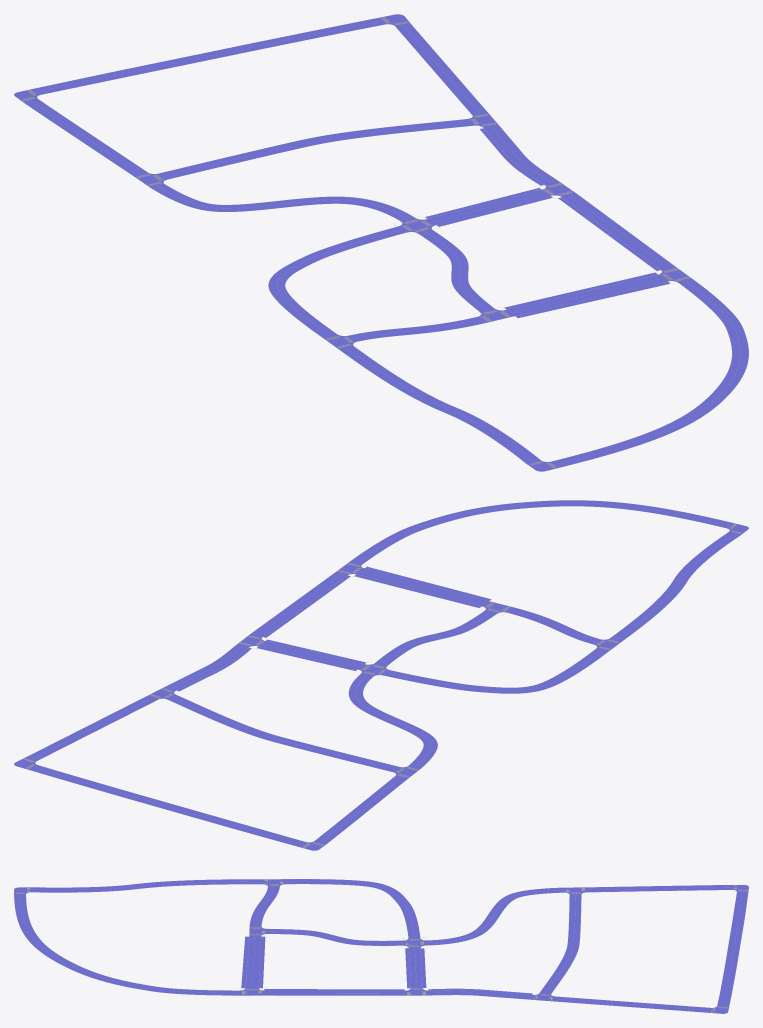
The model's file is Hmi_car_track.fbx.
3 views of the same model, one above another, from view 1: azimuth 30°, elevation 25°; view 2: azimuth 150°, elevation 25°; view 3: azimuth 270°, elevation 25° (orthographic). The views are drawn at different scales.
Parts seen in each view (by area): view 1: road_segment_13, road_segment_05, road_segment_06, road_segment_01, road_segment_04, road_segment_10, road_segment_03, road_segment_12, road_segment_07, road_segment_14, road_segment_09, road_segment_11 (+2 smaller); view 2: road_segment_13, road_segment_05, road_segment_06, road_segment_04, road_segment_01, road_segment_10, road_segment_03, road_segment_12, road_segment_07, road_segment_14, road_segment_09, road_segment_11 (+2 smaller); view 3: road_segment_13, road_segment_05, road_segment_01, road_segment_06, road_segment_04, road_segment_10, road_segment_03, road_segment_12, road_segment_07, road_segment_09, road_segment_14, road_segment_11 (+2 smaller).
Boxes of the visible parts, x1,y1,x2,y2 form: road_segment_13: (552,279,748,467); road_segment_05: (34,18,383,94); road_segment_06: (159,119,471,179); road_segment_01: (340,346,540,463); road_segment_04: (268,226,406,337); road_segment_10: (504,272,669,317); road_segment_03: (151,184,414,221); road_segment_12: (558,193,675,270); road_segment_07: (395,24,487,114); road_segment_14: (425,188,552,226); road_segment_09: (24,99,146,175); road_segment_11: (419,230,494,311); road_segment_13: (350,500,732,564); road_segment_05: (30,765,304,846); road_segment_06: (167,695,399,771); road_segment_04: (384,649,607,693); road_segment_01: (610,532,740,640); road_segment_10: (354,566,491,607); road_segment_03: (348,674,437,768); road_segment_12: (251,572,350,637); road_segment_07: (26,696,157,760); road_segment_14: (257,639,366,670); road_segment_09: (315,776,407,843); road_segment_11: (375,610,496,665); road_segment_13: (14,894,240,995); road_segment_05: (717,892,748,1006); road_segment_01: (31,879,261,892); road_segment_06: (540,895,581,993); road_segment_04: (286,879,420,937); road_segment_10: (241,936,265,988); road_segment_03: (426,887,563,945); road_segment_12: (264,989,404,995); road_segment_07: (554,996,710,1012); road_segment_09: (587,885,731,892); road_segment_14: (405,948,426,988); road_segment_11: (267,929,402,945).
Size of the model in its own units: 42455 by 6.37 by 97780.
